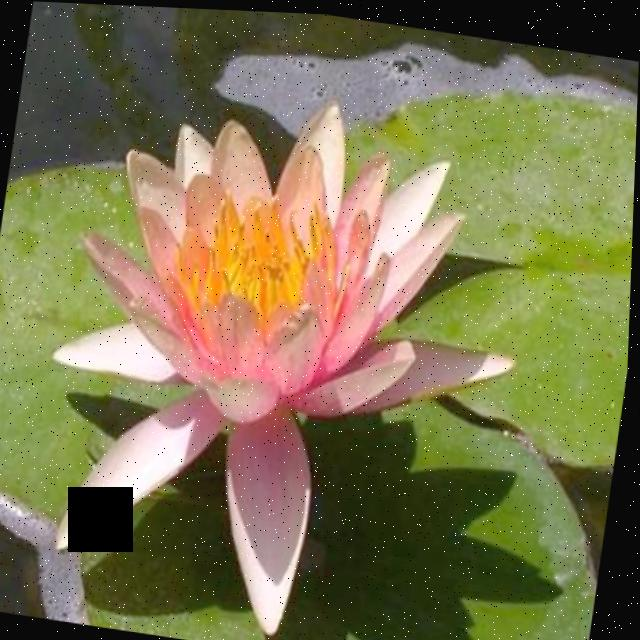water-lily: (0, 46, 521, 640)
